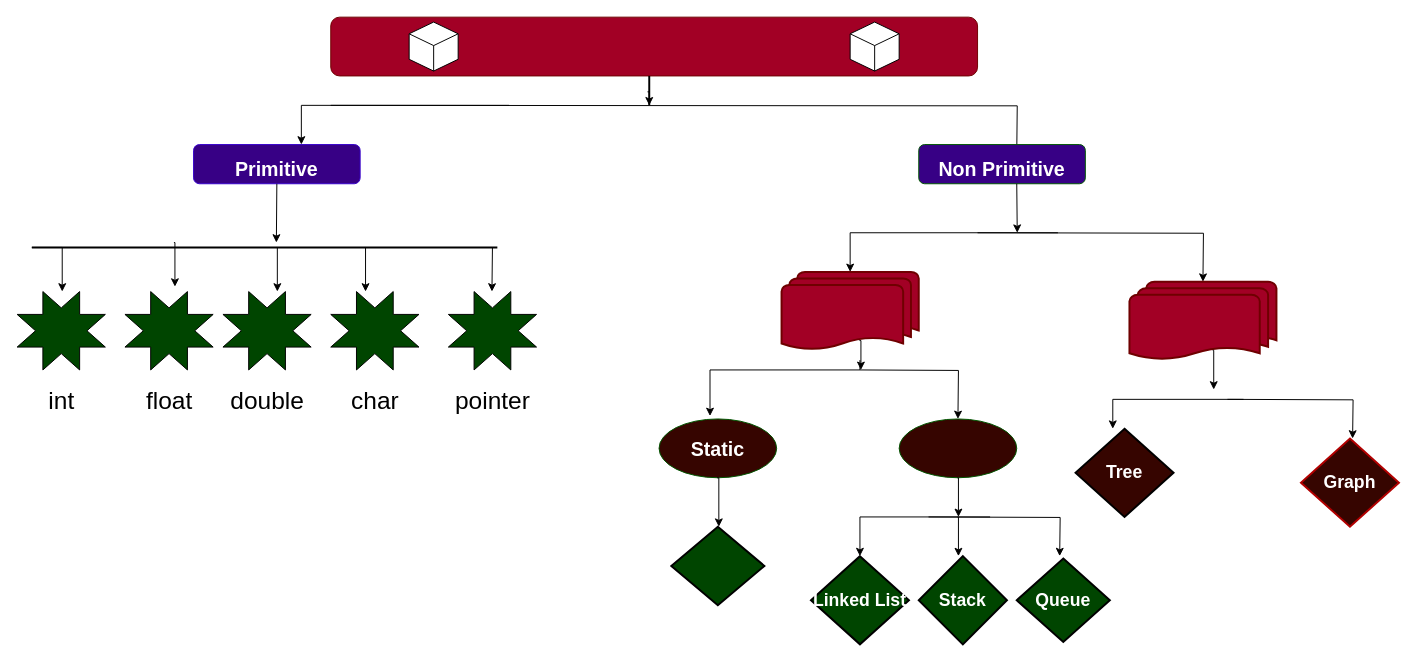
Some shapes in this 1417 by 662 pixel diagram are drawn without their labels. Each missing label, with the box of its shape:
Array: (670, 525, 765, 606)
Data Structure Types: (330, 16, 978, 76)
Dynamic: (898, 418, 1017, 478)
Linear: (780, 270, 919, 351)
Non Linear: (1128, 280, 1277, 361)
